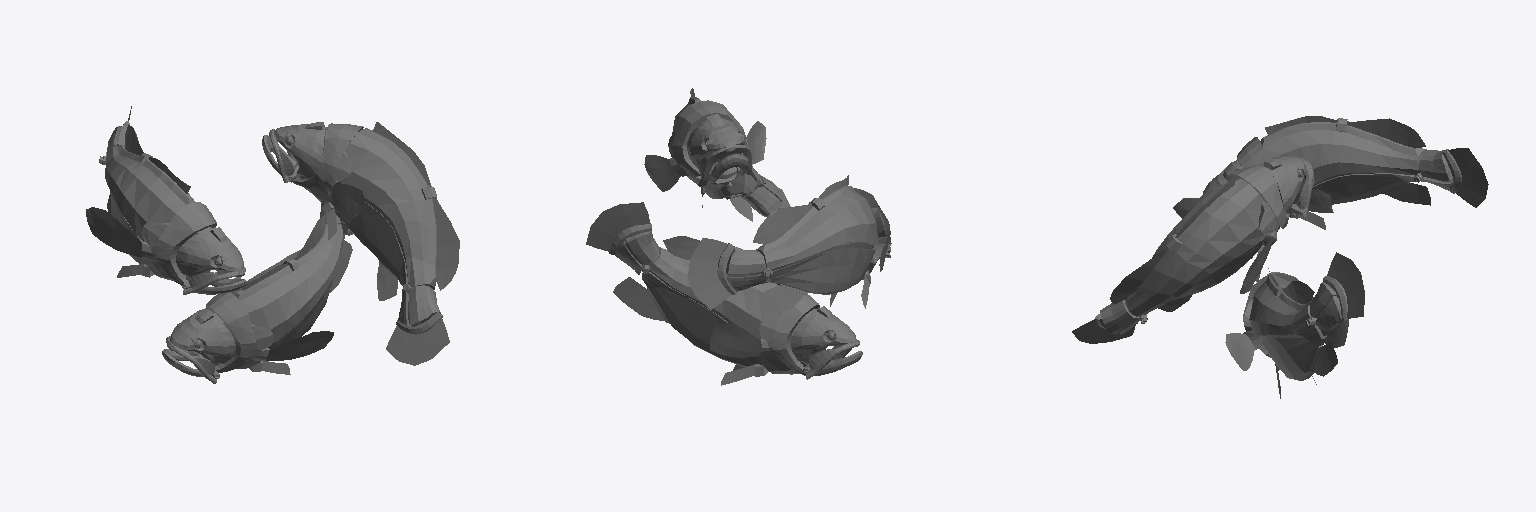
The picture shows the model from 3 angles: view 1: azimuth 30°, elevation 25°; view 2: azimuth 150°, elevation 25°; view 3: azimuth 270°, elevation 25°; orthographic projection.
Parts seen in each view (by area): view 1: Body_Top_Low.001, Body_Top_Low.002, Body_Top_Low, Body_Bottom_Low.001, Head_Low.002, Head_Low.001, Collar_1_Low.002, Fin_Dorsal_Low.002, Collar_1_Low.001, Head_Low, Fin_Tail_Low.002, Fin_Main_Low (+13 smaller); view 2: Body_Top_Low, Body_Bottom_Low, Body_Bottom_Low.002, Body_Top_Low.002, Head_Low.001, Fin_Tail_Low.001, Collar_1_Low, Head_Low, Fin_Tail_Low, Collar_1_Low.001, Fin_Main_Low.001, Fin_Main_Low.002 (+12 smaller); view 3: Body_Top_Low.001, Body_Top_Low, Body_Top_Low.002, Body_Bottom_Low.002, Body_Bottom_Low, Fin_Dorsal_Low.001, Fin_Tail_Low.001, Fin_Tail_Low, Head_Low, Collar_1_Low, Fin_Dorsal_Low.002, Fin_Main_Low.002 (+11 smaller).
Part boxes in pixels (left/top/right/bottom): Body_Top_Low.001: left=341, top=128, right=436, bottom=289; Body_Top_Low.002: left=231, top=224, right=345, bottom=344; Body_Top_Low: left=105, top=145, right=194, bottom=241; Body_Bottom_Low.001: left=322, top=201, right=407, bottom=285; Head_Low.002: left=176, top=227, right=243, bottom=280; Head_Low.001: left=170, top=308, right=235, bottom=365; Collar_1_Low.002: left=155, top=202, right=216, bottom=285; Fin_Dorsal_Low.002: left=373, top=122, right=459, bottom=290; Collar_1_Low.001: left=206, top=292, right=256, bottom=372; Head_Low: left=274, top=122, right=327, bottom=179; Fin_Tail_Low.002: left=386, top=318, right=449, bottom=365; Fin_Main_Low: left=86, top=207, right=141, bottom=256; Body_Top_Low: left=756, top=186, right=878, bottom=268; Body_Bottom_Low: left=766, top=248, right=875, bottom=294; Body_Bottom_Low.002: left=642, top=272, right=768, bottom=376; Body_Top_Low.002: left=650, top=247, right=781, bottom=340; Head_Low.001: left=791, top=306, right=856, bottom=366; Fin_Tail_Low.001: left=688, top=238, right=731, bottom=309; Collar_1_Low: left=672, top=100, right=746, bottom=184; Head_Low: left=687, top=114, right=744, bottom=171; Fin_Tail_Low: left=586, top=202, right=650, bottom=251; Collar_1_Low.001: left=772, top=294, right=819, bottom=375; Fin_Main_Low.001: left=644, top=121, right=766, bottom=191; Fin_Main_Low.002: left=710, top=323, right=761, bottom=357; Body_Top_Low.001: left=1125, top=179, right=1266, bottom=316; Body_Top_Low: left=1260, top=118, right=1426, bottom=193; Body_Top_Low.002: left=1249, top=274, right=1310, bottom=338; Body_Bottom_Low.002: left=1260, top=325, right=1326, bottom=380; Body_Bottom_Low: left=1289, top=173, right=1414, bottom=218; Fin_Dorsal_Low.001: left=1265, top=116, right=1425, bottom=148; Fin_Tail_Low.001: left=1448, top=148, right=1488, bottom=207; Fin_Tail_Low: left=1327, top=252, right=1364, bottom=318; Head_Low: left=1257, top=156, right=1305, bottom=213; Collar_1_Low: left=1227, top=165, right=1289, bottom=228; Fin_Dorsal_Low.002: left=1110, top=177, right=1234, bottom=304; Fin_Main_Low.002: left=1225, top=319, right=1348, bottom=370.
Bounding box in the file's own units: 0.0541 × 0.0465 × 0.0687.